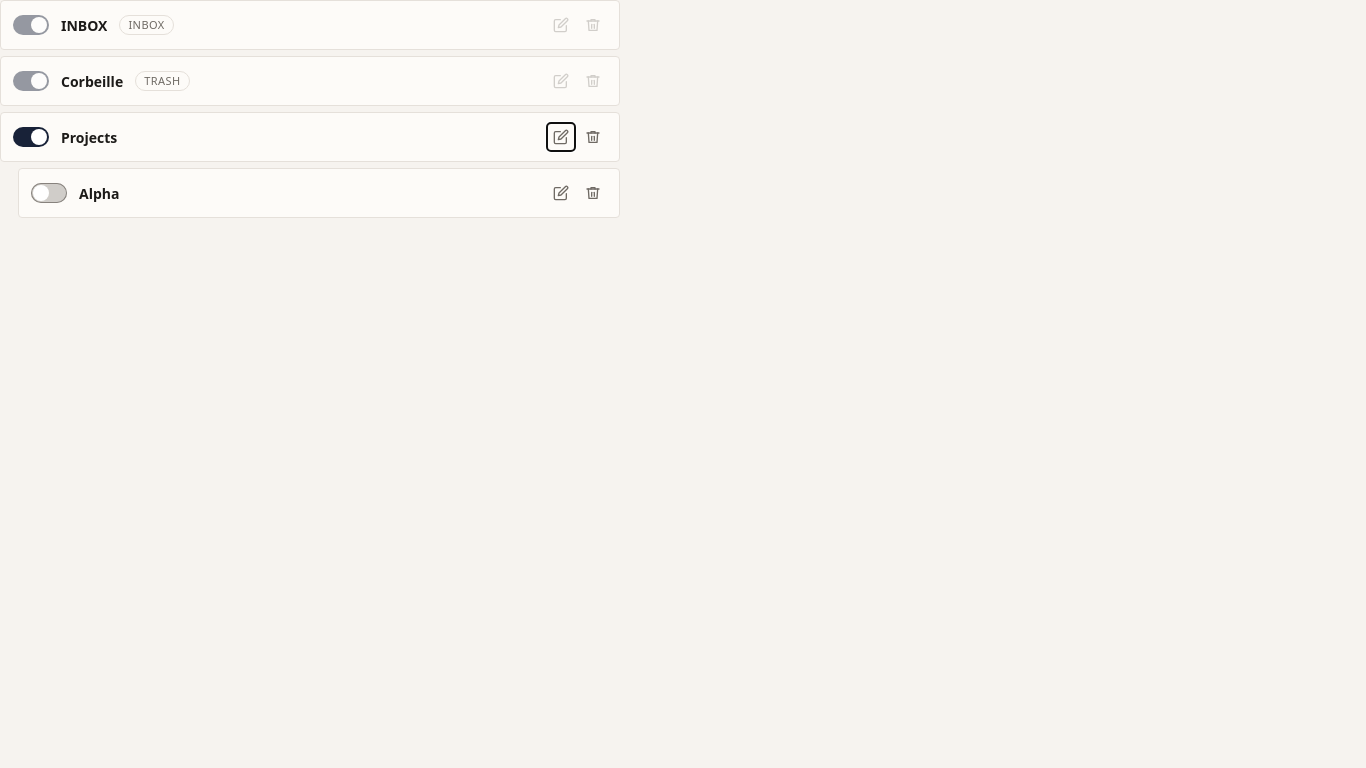
renaming a folder › is a modal dialog named by its own title, opening on the name it renames
Click the button named "Rename Projects" at (561, 137), box [547,123,575,151]
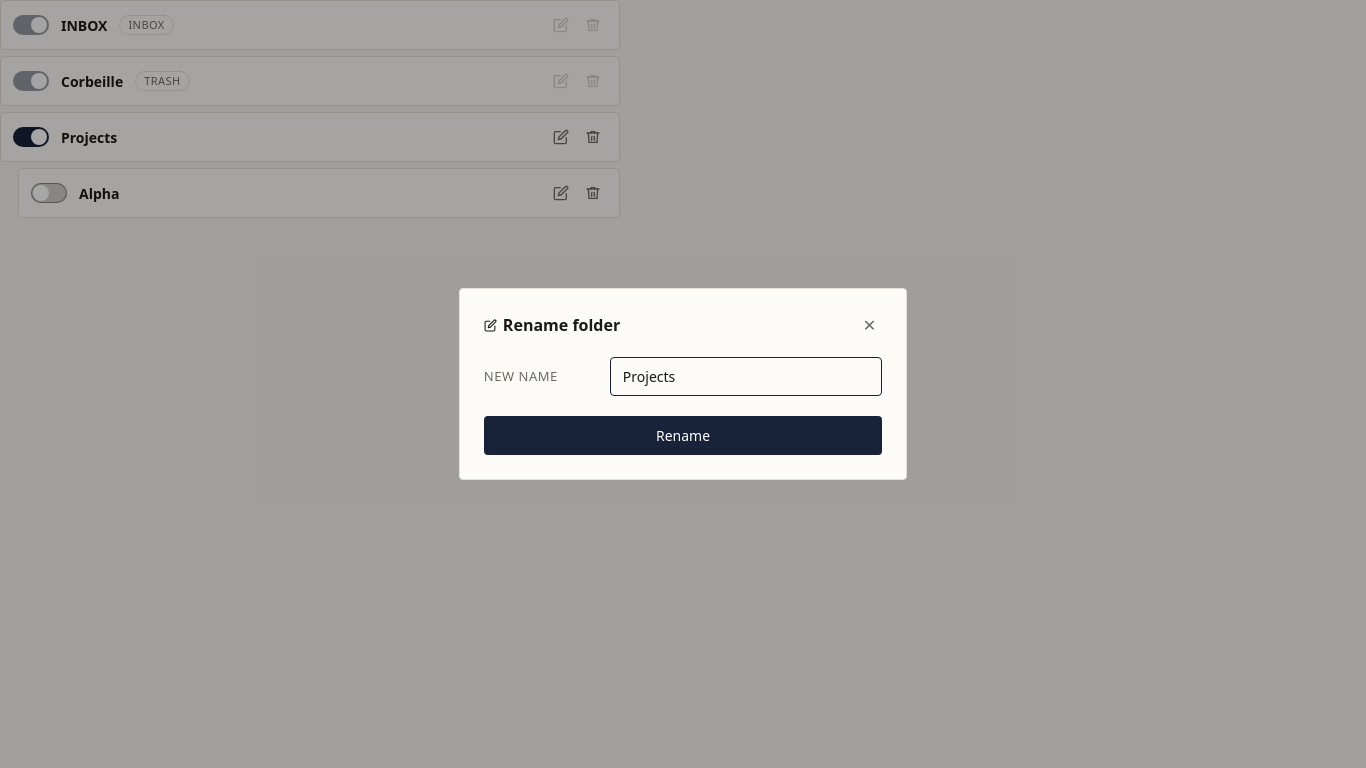
Result: the field labelled "New name" holds "Projects" at [610,357,882,396]
